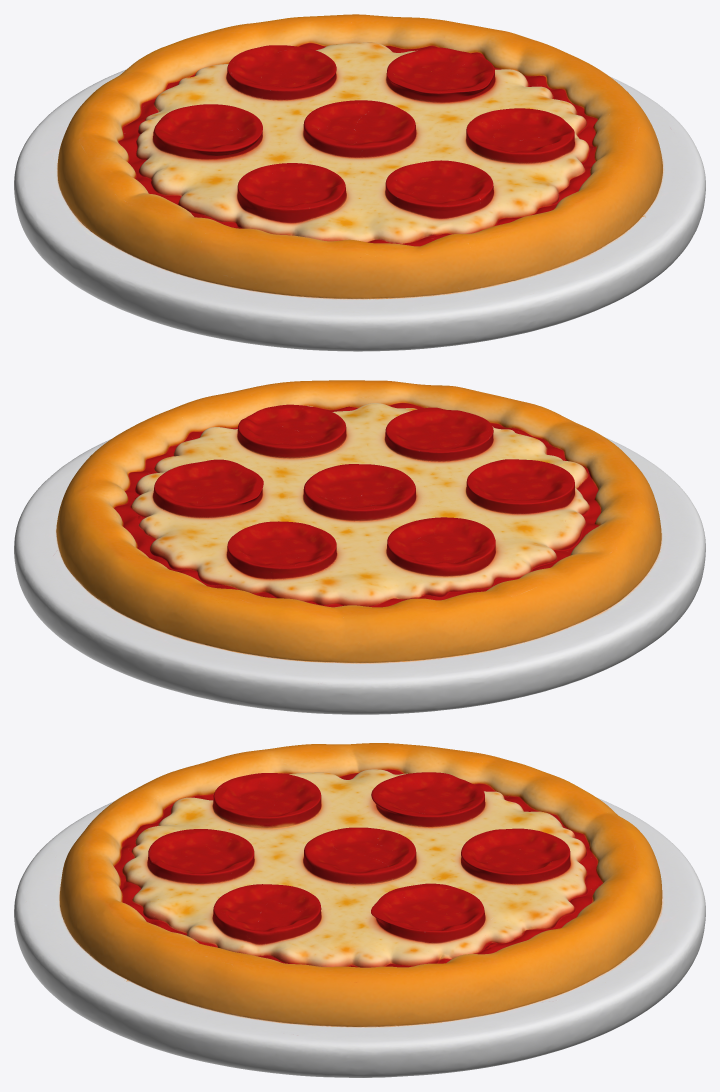
The model's file is pizza.glb.
3 renders of one model, top to bottom at view 1: azimuth 30°, elevation 25°; view 2: azimuth 150°, elevation 25°; view 3: azimuth 270°, elevation 25°, orthographic.
Size of the model in its own units: 1.9 by 0.2628 by 1.9.
1 material, 1 textured.
